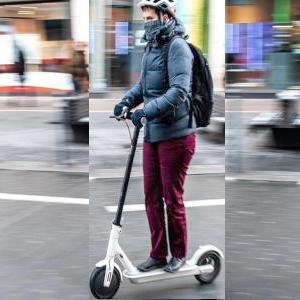with scooter: (89, 0, 225, 299)
